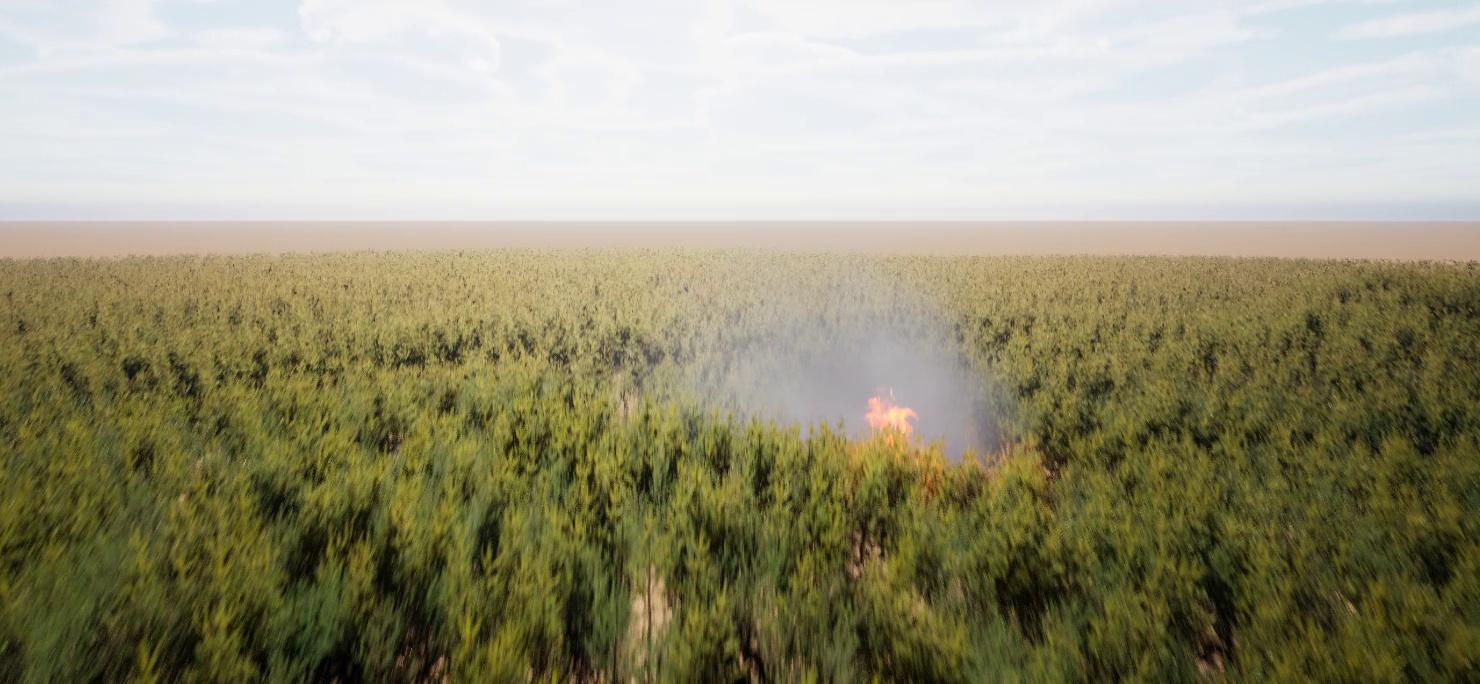fire: (860, 391, 928, 446)
smoke: (645, 231, 1034, 474)
